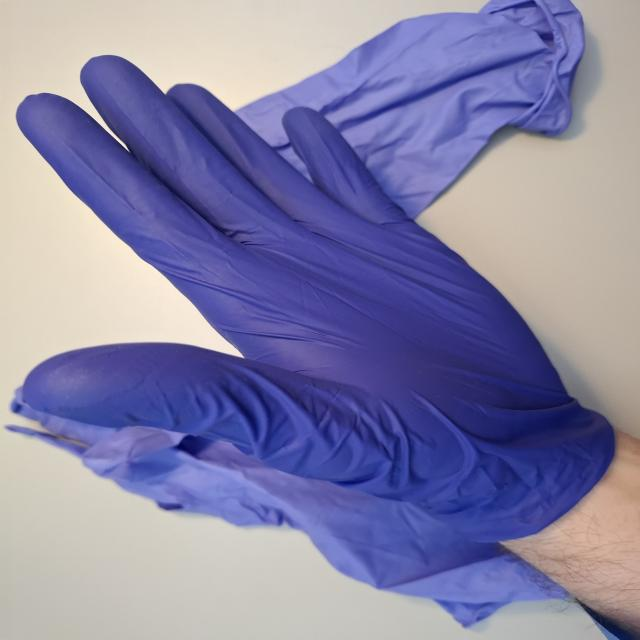glove_on: (11, 51, 634, 564)
